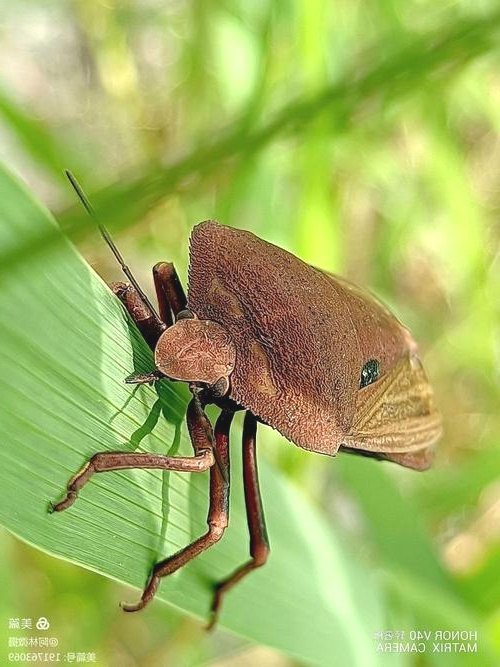Stink_Bug: (129, 217, 433, 512)
